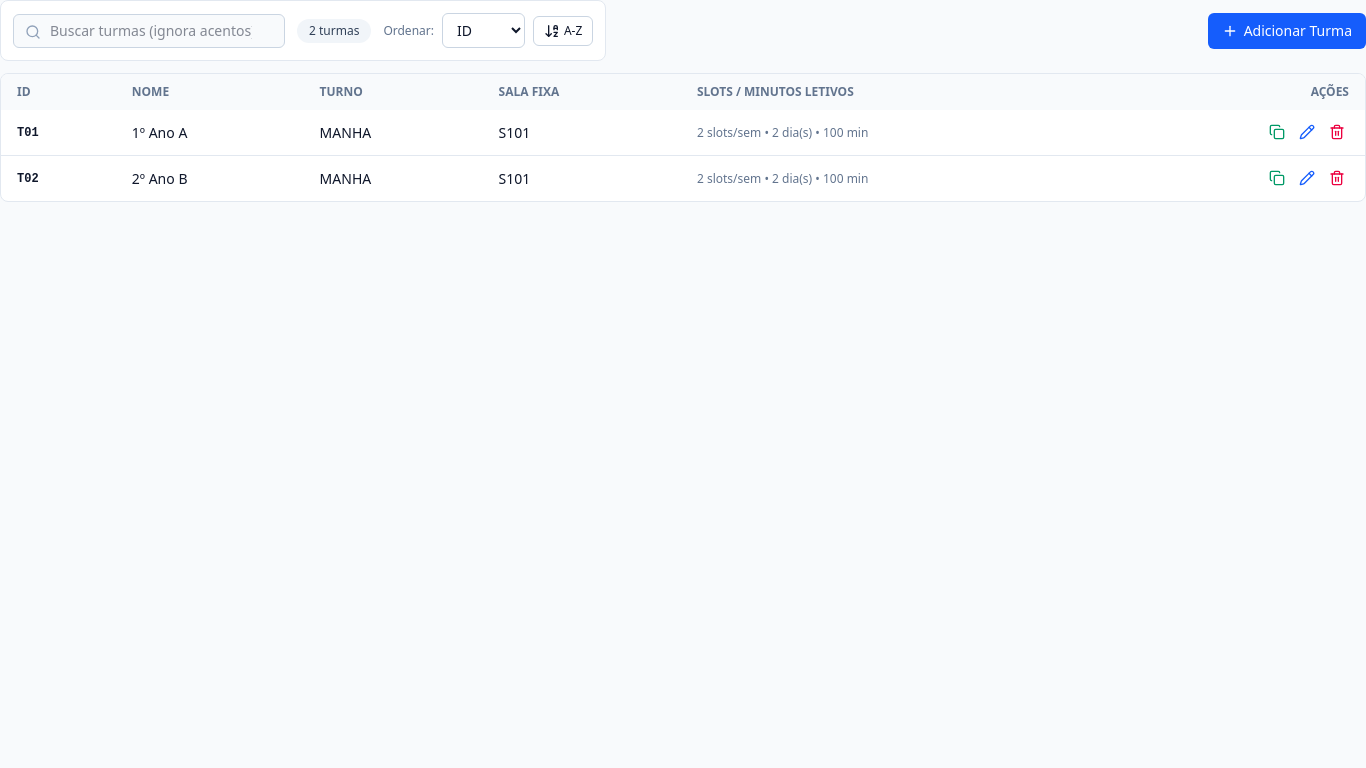
TurmasTab - CopyTurmaModal disciplina selection › supports clearing and selecting all linked disciplinas and warns when none selected
Later steps or results of the test are not shown.
Click the button named "Copiar 1º Ano A": (1277, 132) [1265,120,1289,144]
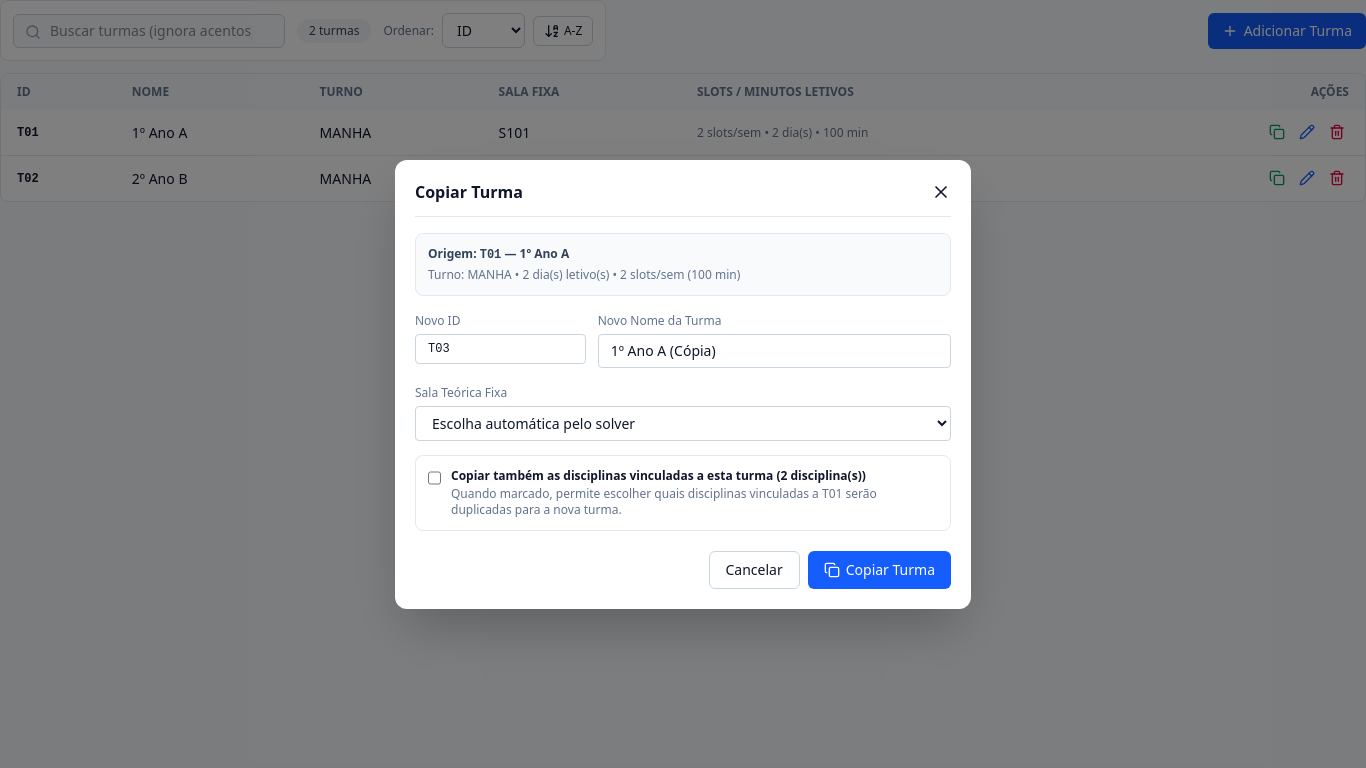
Expected: the heading "Copiar Turma" is shown, [415,180,523,204]
Click the checkbox labelled "Copiar também as disciplinas vinculadas a esta turma": (434, 478) [428,470,441,486]
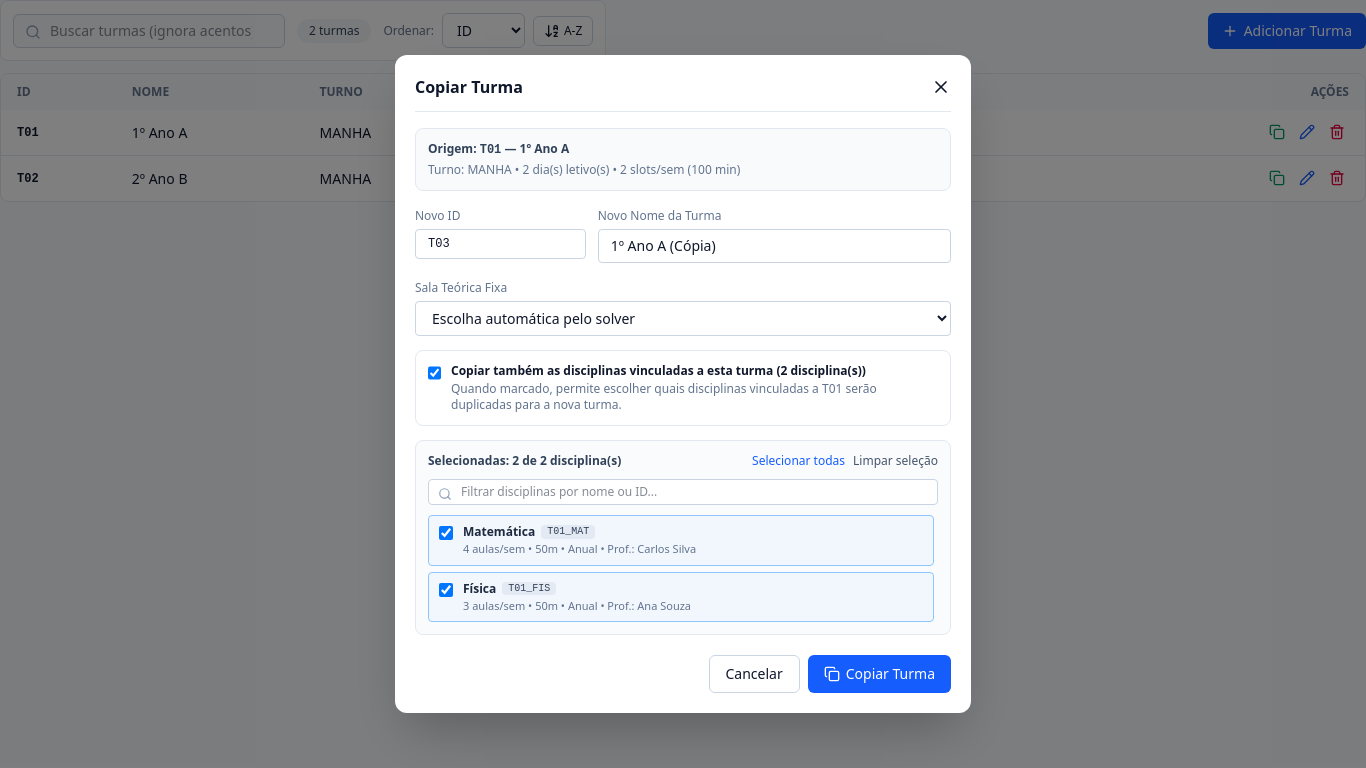
Click the button "Limpar seleção": (896, 461) [853,453,938,469]
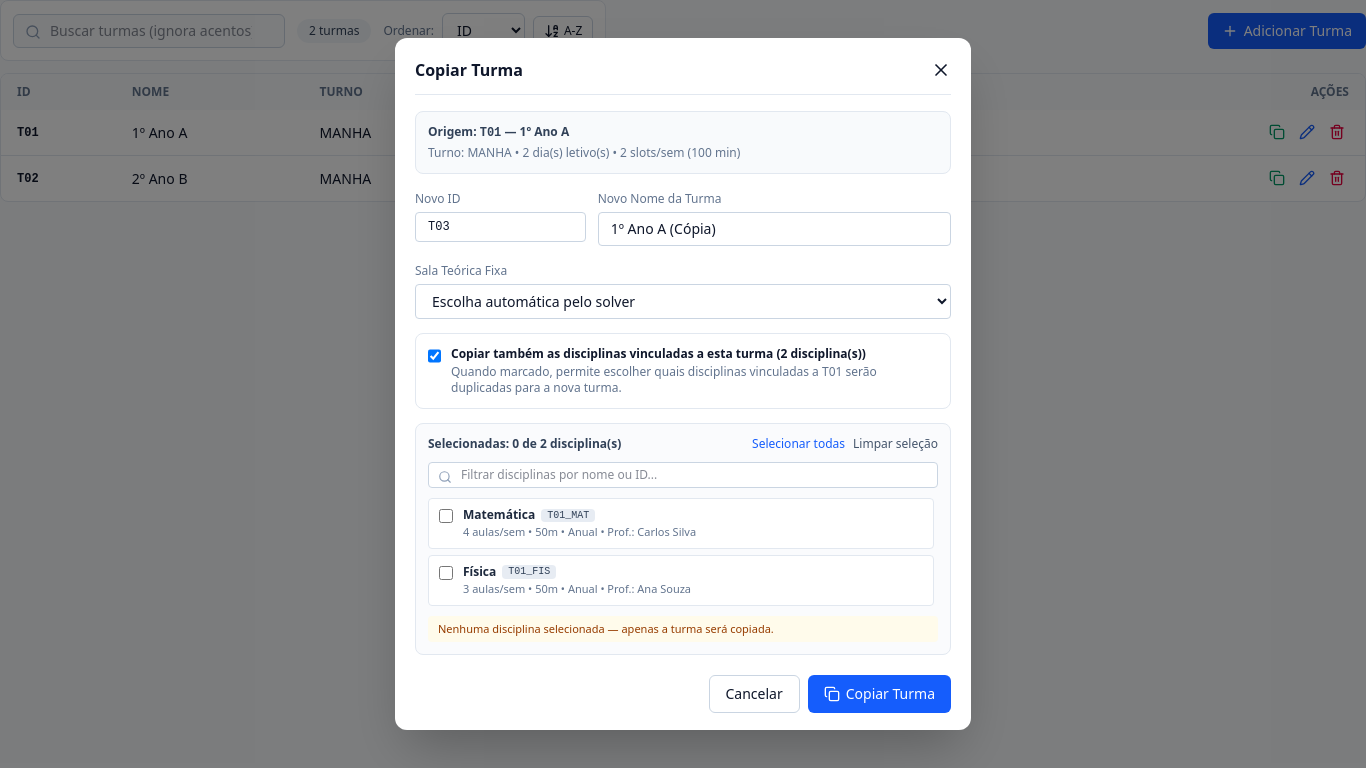
Expected: the text "Selecionadas: 0 de 2 disciplina(s)" is shown, [428,436,621,452]
Expected: the text "Nenhuma disciplina selecionada — apenas a turma será copiada" is shown, [438,621,774,636]
# Select all then clear again to verify both buttons and submit empty selection
Click the button "Selecionar todas": (798, 444) [752,436,845,452]
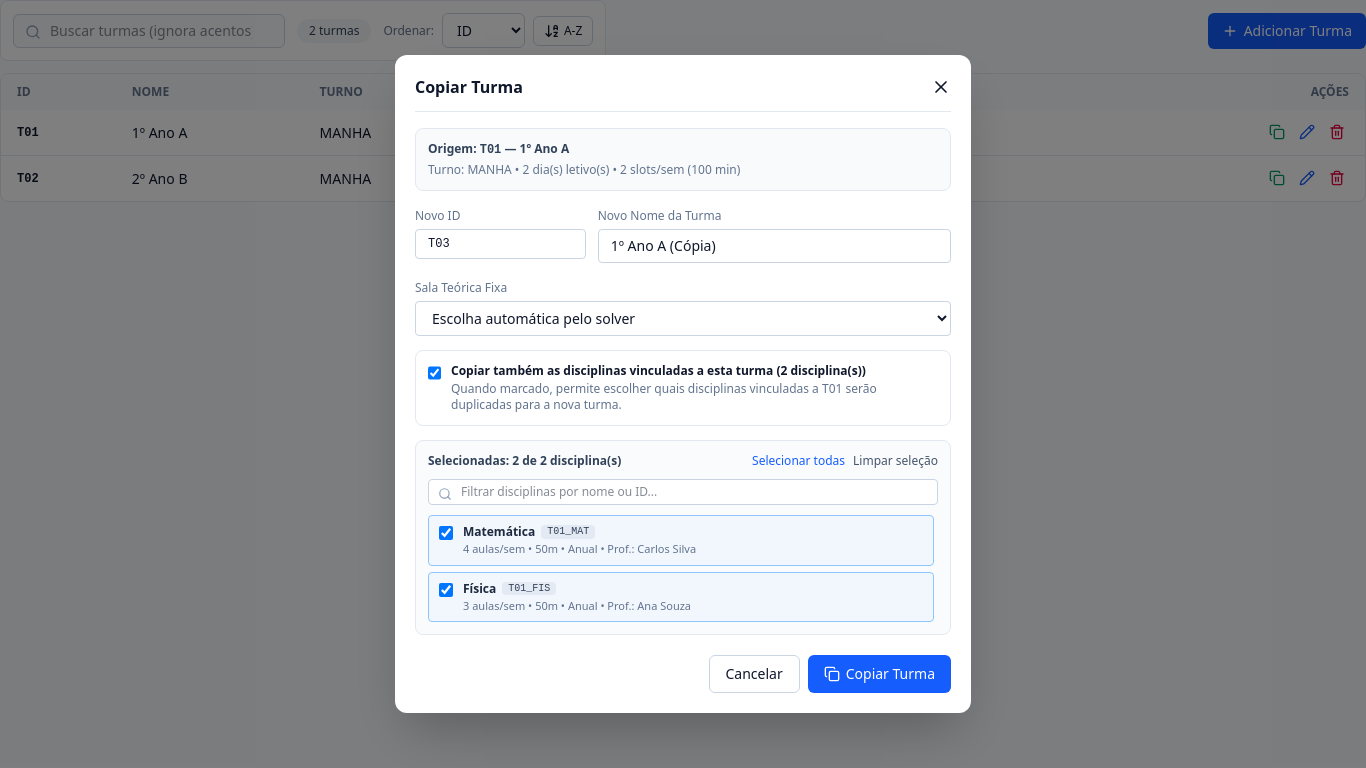
Expected: the text "Selecionadas: 2 de 2 disciplina(s)" is shown, [428,453,621,469]
